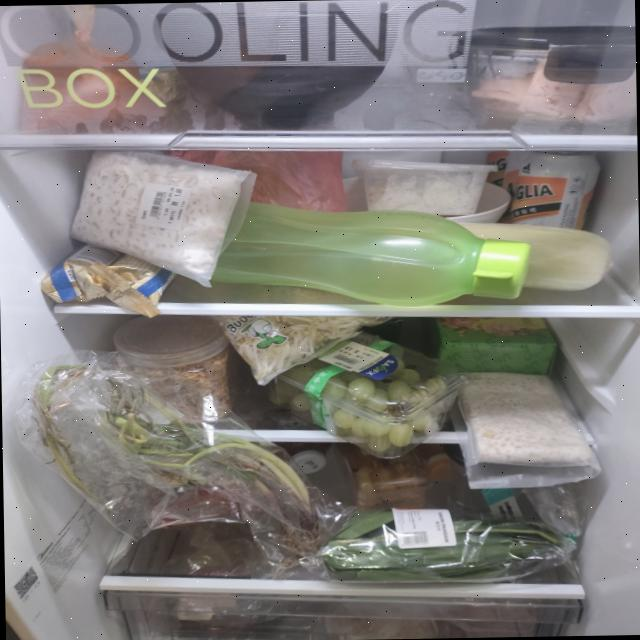bean_sprouts: (214, 312, 392, 382)
corn: (456, 219, 612, 294)
grape: (267, 354, 449, 454)
leafy_greens: (321, 504, 564, 586)
spring_onion: (33, 360, 321, 568)
tempeh: (70, 147, 244, 283), (456, 370, 594, 464)
